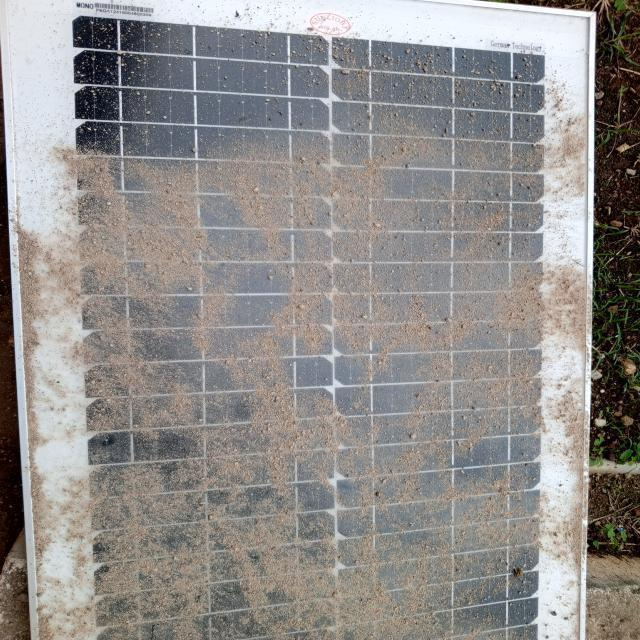Surface Contaminant: (61, 61, 574, 629)
